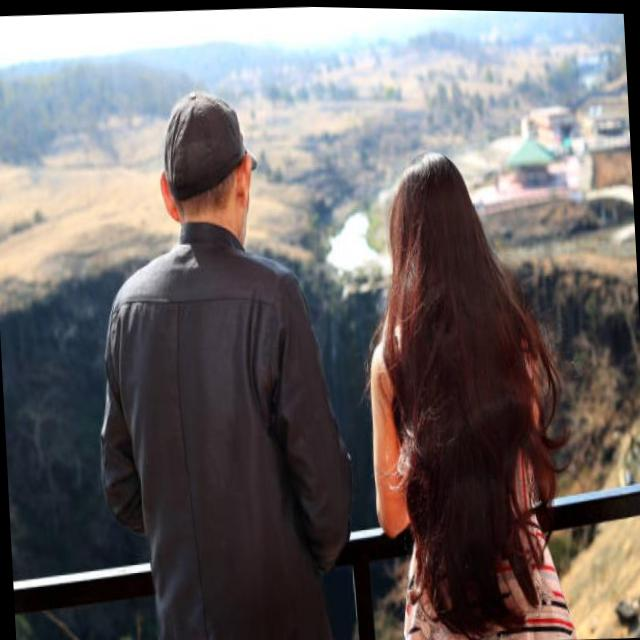no helmet: (135, 67, 269, 268)
